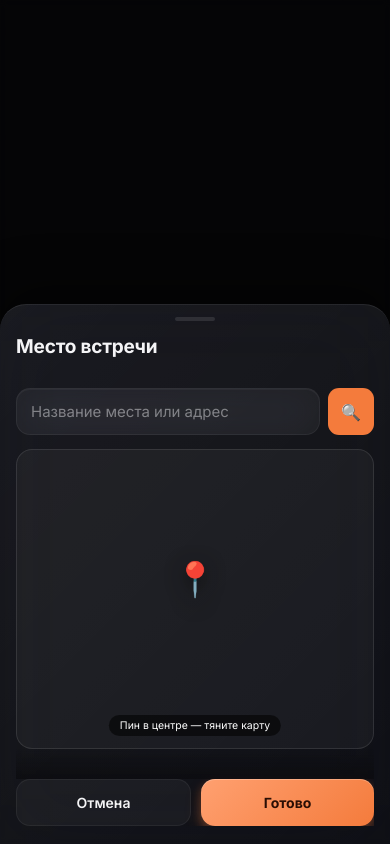
Scenario: LocationPickerSheet — поиск места по подсказкам (venue-search, вариант C) › лупа с результатами: шторка со списком ПОВЕРХ карты, заведения и адреса вперемешку
Check: the button named "Найти адрес" is enabled, box x1=328 y1=388 x2=374 y2=435
Type "Иваново, Old Friends" into the field with placeholder "Название места или адрес". click: (168, 412)
box: x1=16 y1=388 x2=320 y2=435
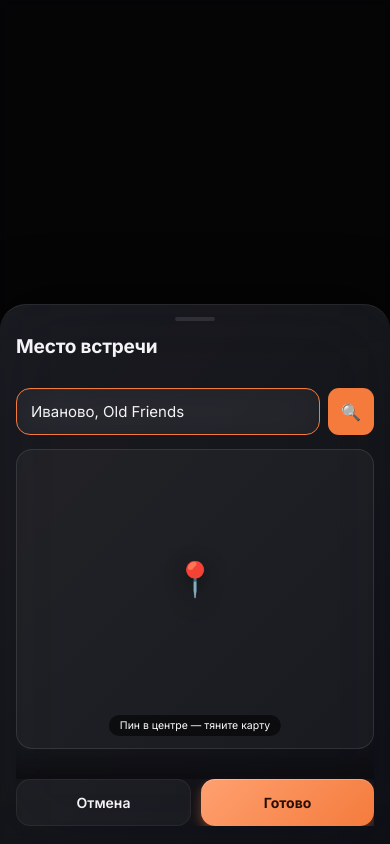
Click the button named "Найти адрес". click: (351, 412)
box: x1=328 y1=388 x2=374 y2=435
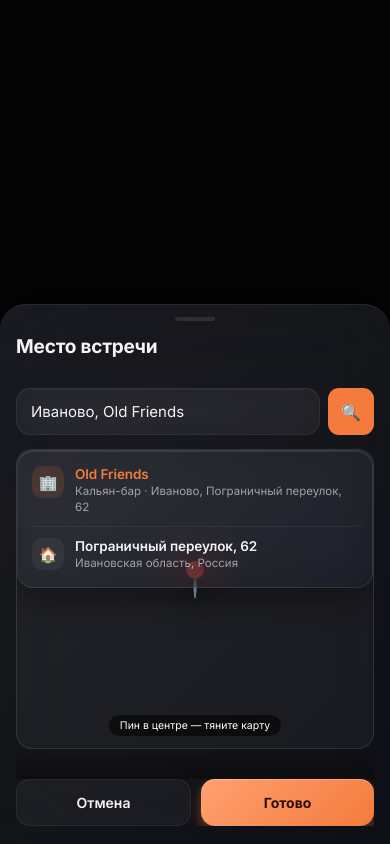
Check: the element named "Найденные места" is shown, box x1=16 y1=449 x2=374 y2=749
Check: the button "🏢 Old Friends Кальян-бар · Иваново, Пограничный переулок, 62" is shown, box x1=24 y1=455 x2=366 y2=527
Check: the button "🏠 Пограничный переулок, 62 Ивановская область, Россия" is shown, box x1=24 y1=527 x2=366 y2=582
